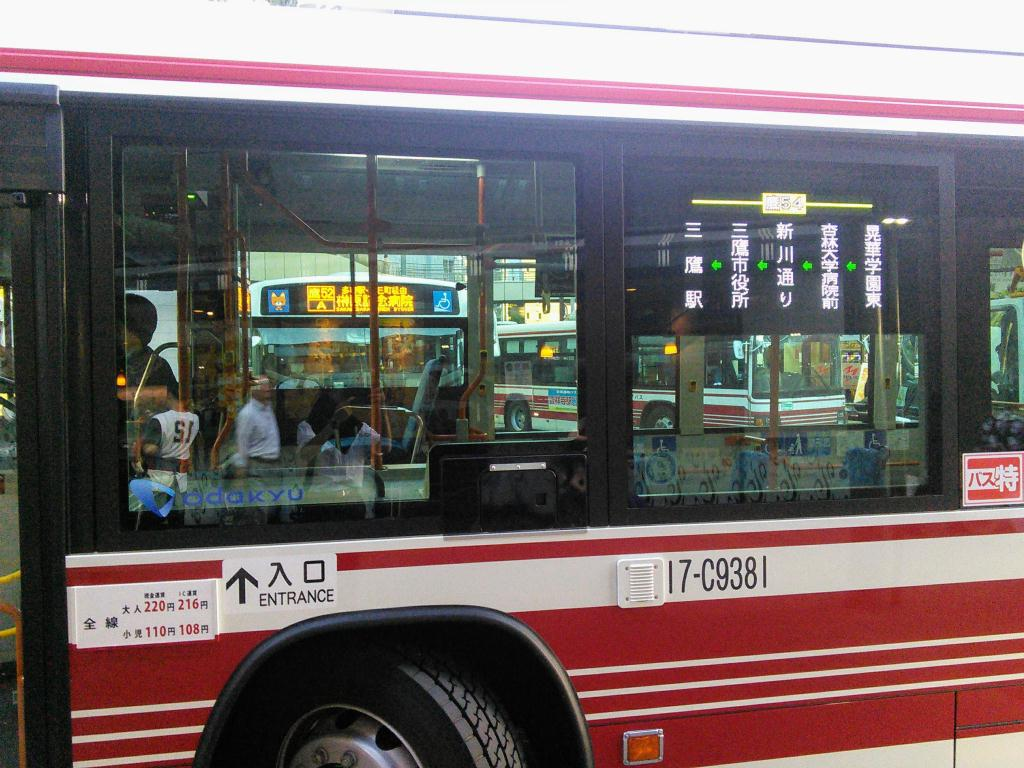destination: (293, 284, 427, 313)
